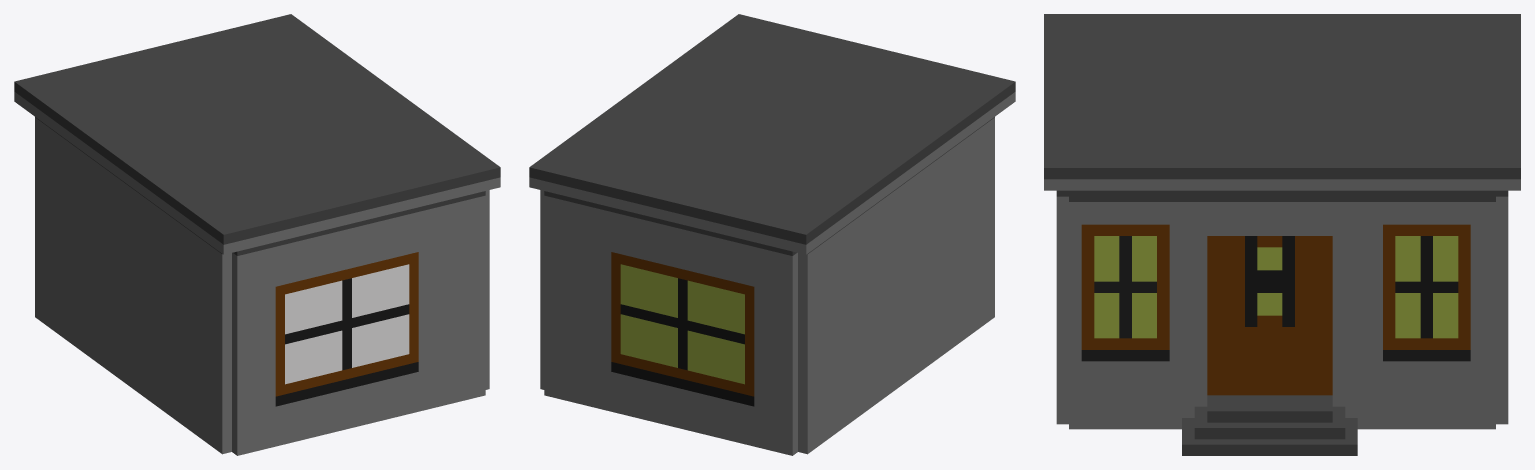
File: building 4-0.obj
The picture shows the model from 3 angles, left to right: view 1: azimuth 30°, elevation 25°; view 2: azimuth 150°, elevation 25°; view 3: azimuth 270°, elevation 25°; orthographic projection. The views are drawn at different scales.
Size of the model in its own units: 3.4 by 2.3 by 3.8.
1 material, 1 textured.
